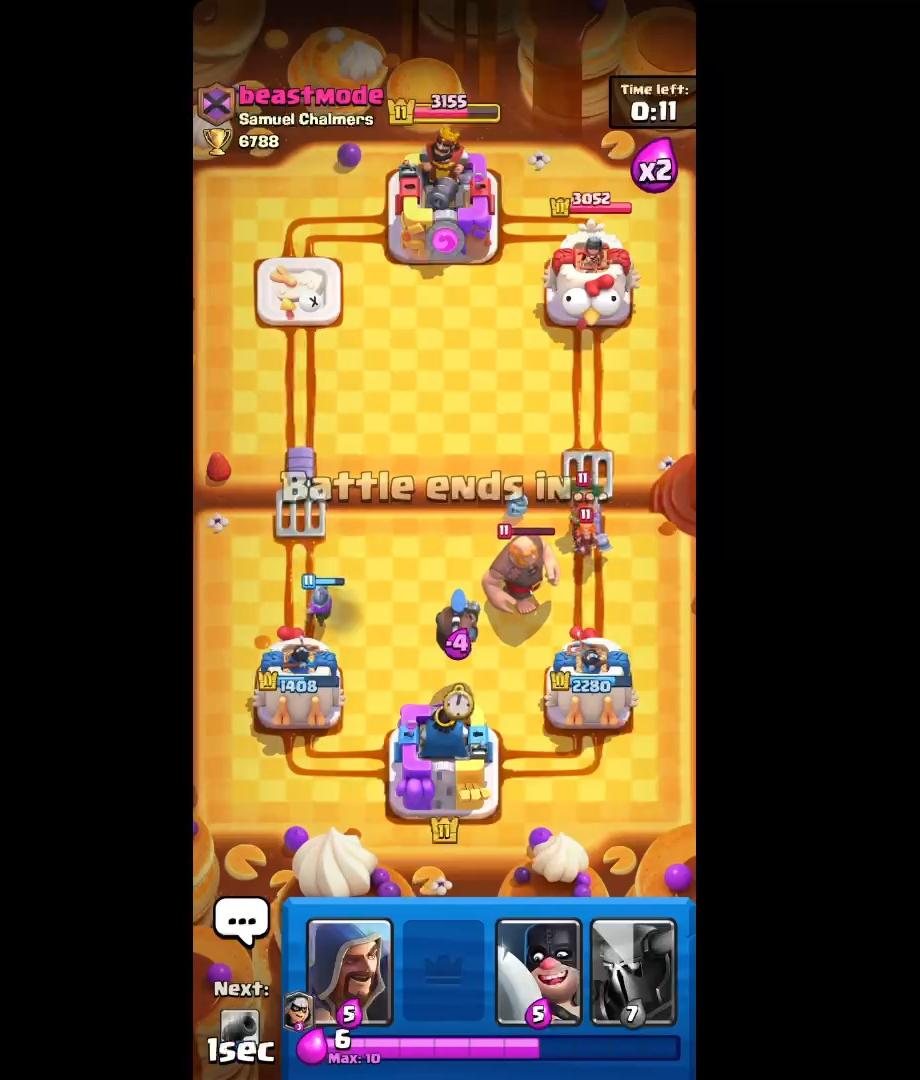Giant: (479, 525, 562, 625)
Valkyrie: (572, 509, 608, 561)
